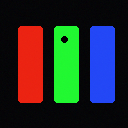0 point: (61, 36, 67, 42)
